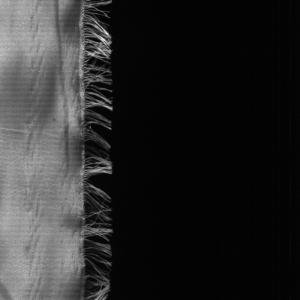Damage: (81, 1, 121, 300)
Wrinkle: (1, 1, 74, 300)
